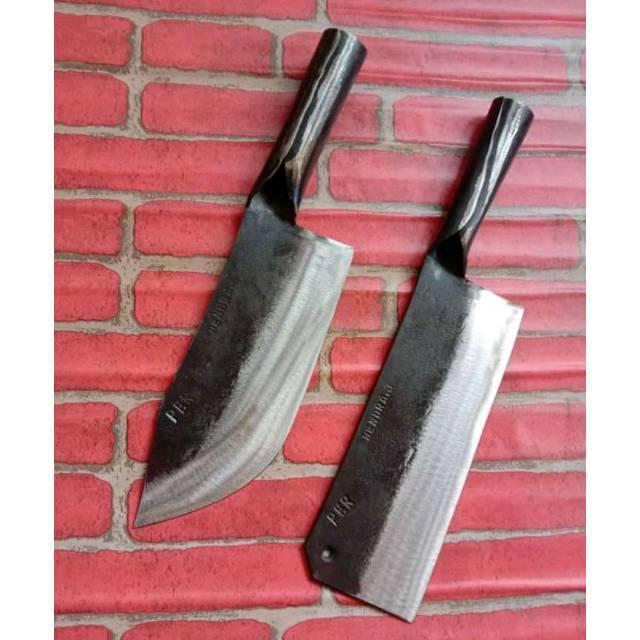Pisau: (131, 21, 375, 534)
